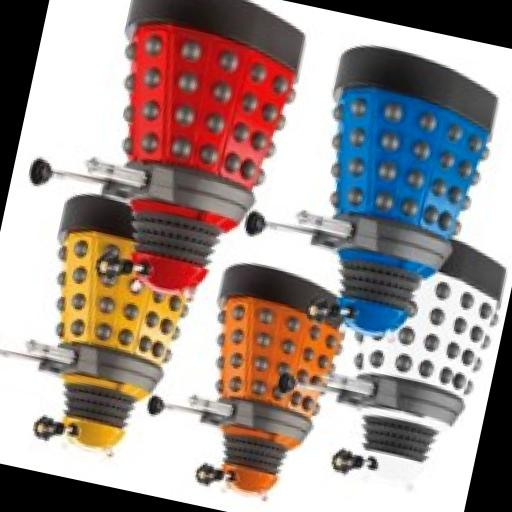dalek: (8, 0, 321, 321), (227, 19, 512, 358), (262, 212, 512, 501), (0, 175, 223, 470), (132, 248, 370, 512)
